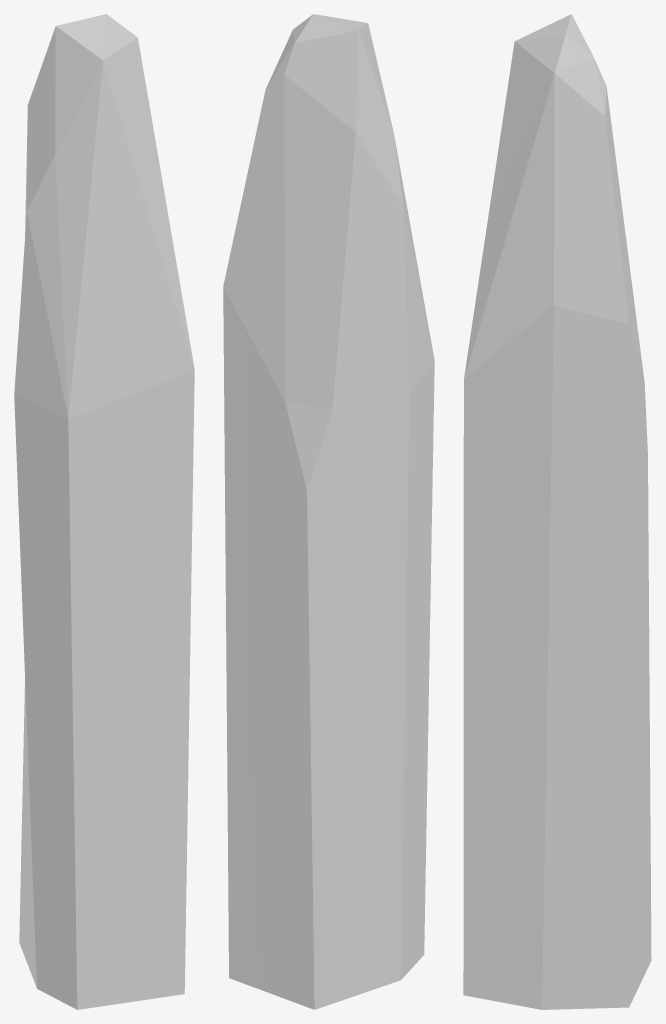
Rendered from mining_PP_Crystal_Single_04_Silver.gltf.
3 views of the same model, side by side, from view 1: azimuth 30°, elevation 25°; view 2: azimuth 150°, elevation 25°; view 3: azimuth 270°, elevation 25° (orthographic).
Parts seen in each view (by area): view 1: PP_Crystal_Single_04_Silver; view 2: PP_Crystal_Single_04_Silver; view 3: PP_Crystal_Single_04_Silver.
Boxes of the visible parts, left/top/right/bottom form: PP_Crystal_Single_04_Silver: left=14, top=14, right=194, bottom=1009; PP_Crystal_Single_04_Silver: left=223, top=14, right=434, bottom=1009; PP_Crystal_Single_04_Silver: left=463, top=14, right=651, bottom=1009.
Size of the model in its own units: 0.1216 by 0.7168 by 0.1289.
Materials: 1 (1 with a texture image).
